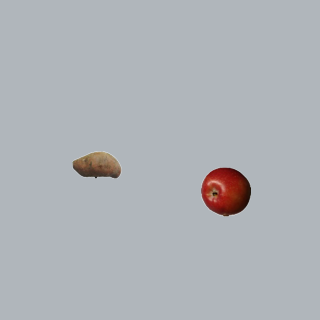Apple Braeburn: (200, 166, 250, 216)
Potato Sweet: (71, 139, 121, 189)
